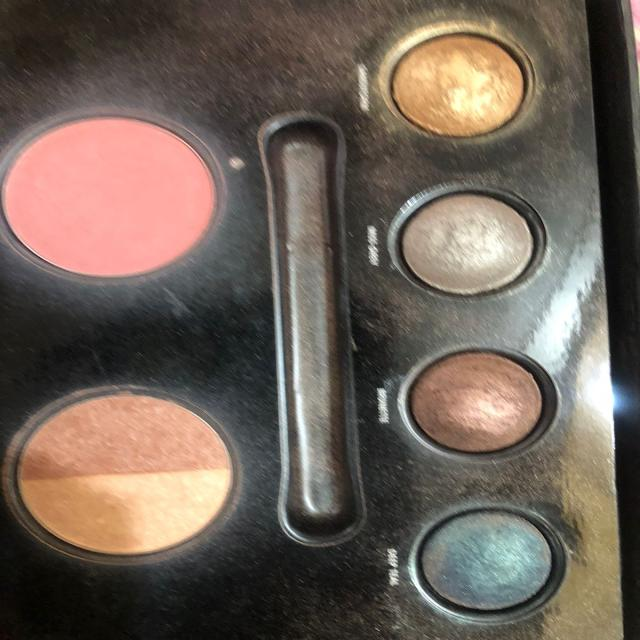blush: (0, 100, 230, 306)
bronzer: (0, 372, 246, 582)
eye shade: (372, 11, 582, 628)
